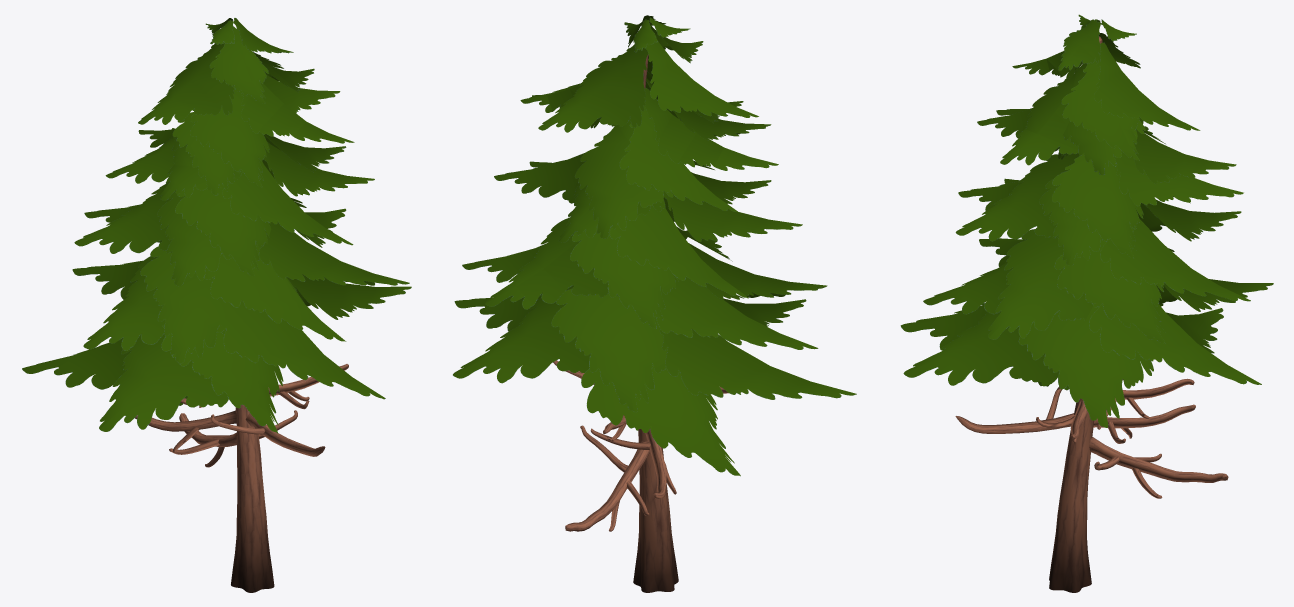
Rendered from tree_pine_1.glb.
3 renders of one model, left to right at view 1: azimuth 30°, elevation 25°; view 2: azimuth 150°, elevation 25°; view 3: azimuth 270°, elevation 25°, orthographic. The views are drawn at different scales.
Parts seen in each view (by area): view 1: Pine_1; view 2: Pine_1; view 3: Pine_1.
Boxes of the visible parts, left/top/right/bottom form: Pine_1: left=22, top=18, right=411, bottom=592; Pine_1: left=453, top=15, right=856, bottom=592; Pine_1: left=900, top=14, right=1273, bottom=592.
Bounding box in the file's own units: 4.94 × 7.32 × 4.54.
Materials: 2 (2 with a texture image).
